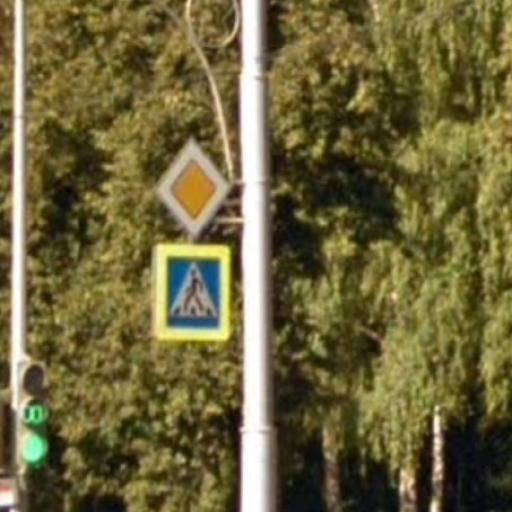traffic_sign: (149, 242, 235, 347), (154, 134, 235, 245)
